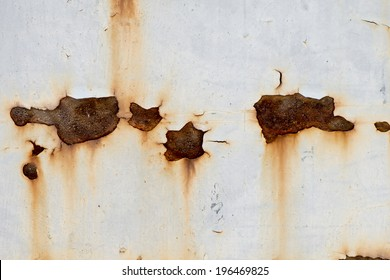rust: (9, 94, 119, 145), (254, 94, 355, 142), (261, 144, 294, 257), (109, 1, 139, 93), (23, 180, 50, 260), (49, 145, 99, 186), (165, 121, 212, 164), (178, 167, 200, 257), (128, 101, 163, 132), (22, 140, 46, 179), (341, 247, 390, 260), (375, 120, 390, 133)
